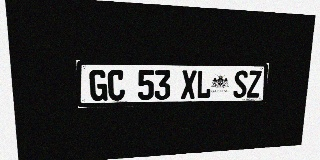3: (155, 70, 171, 100)
5: (138, 70, 154, 100)
C: (107, 70, 125, 101)
G: (89, 70, 107, 101)
L: (196, 70, 212, 99)
S: (233, 70, 248, 98)
X: (181, 70, 197, 99)
Z: (247, 70, 262, 98)
